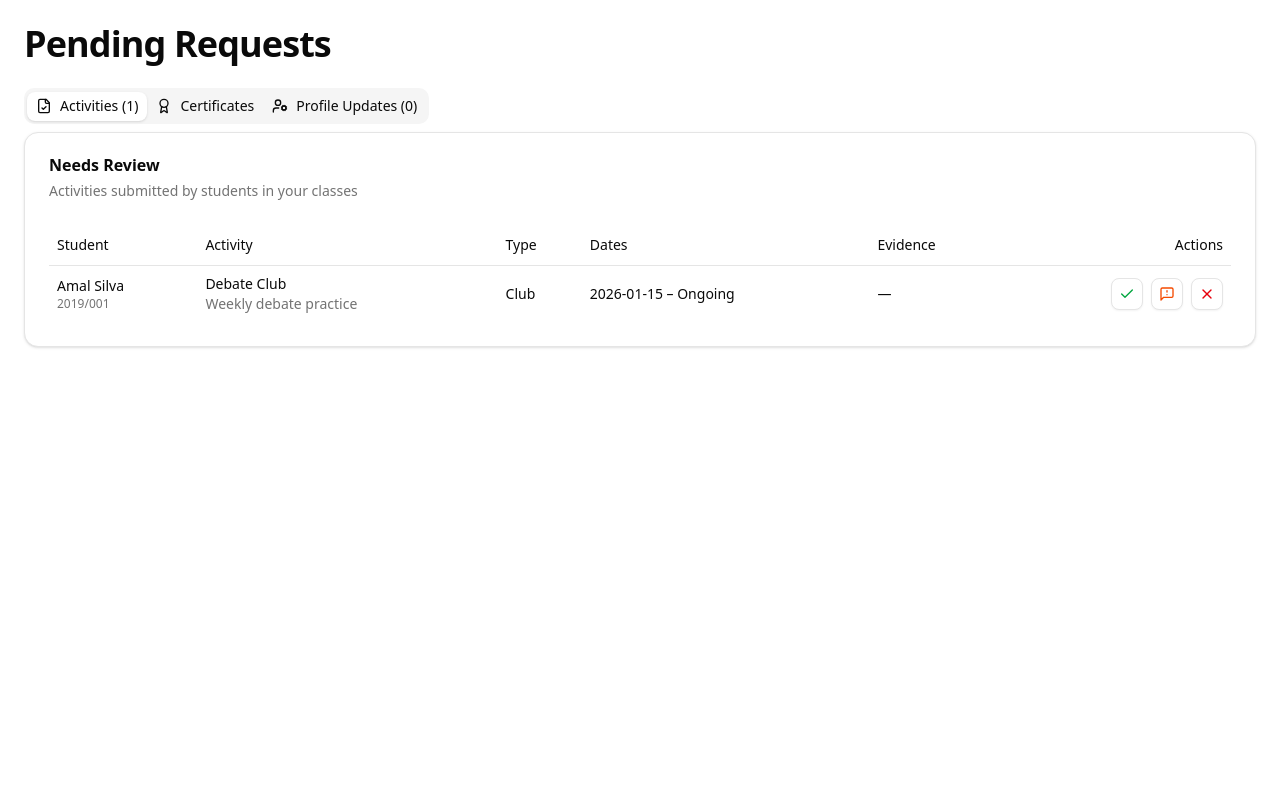
Test: PendingRequestsPage — Activities tab › approves an activity from the Activities tab
Check: the text "Debate Club" is shown, box [205,274,286,292]
Click the button named "Approve". click: (1127, 294)
box: [1111,278,1143,310]
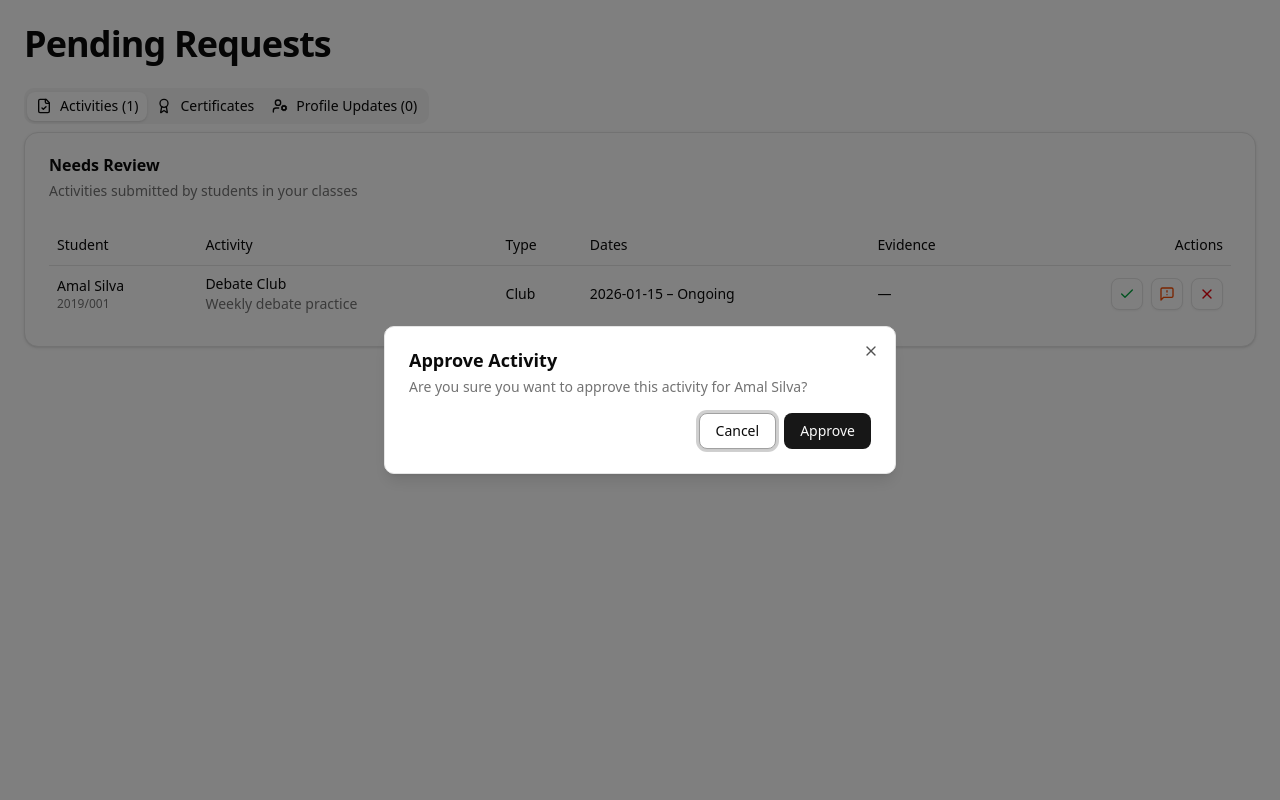
Click the button "Approve". click: (828, 431)
box: [784,413,871,449]
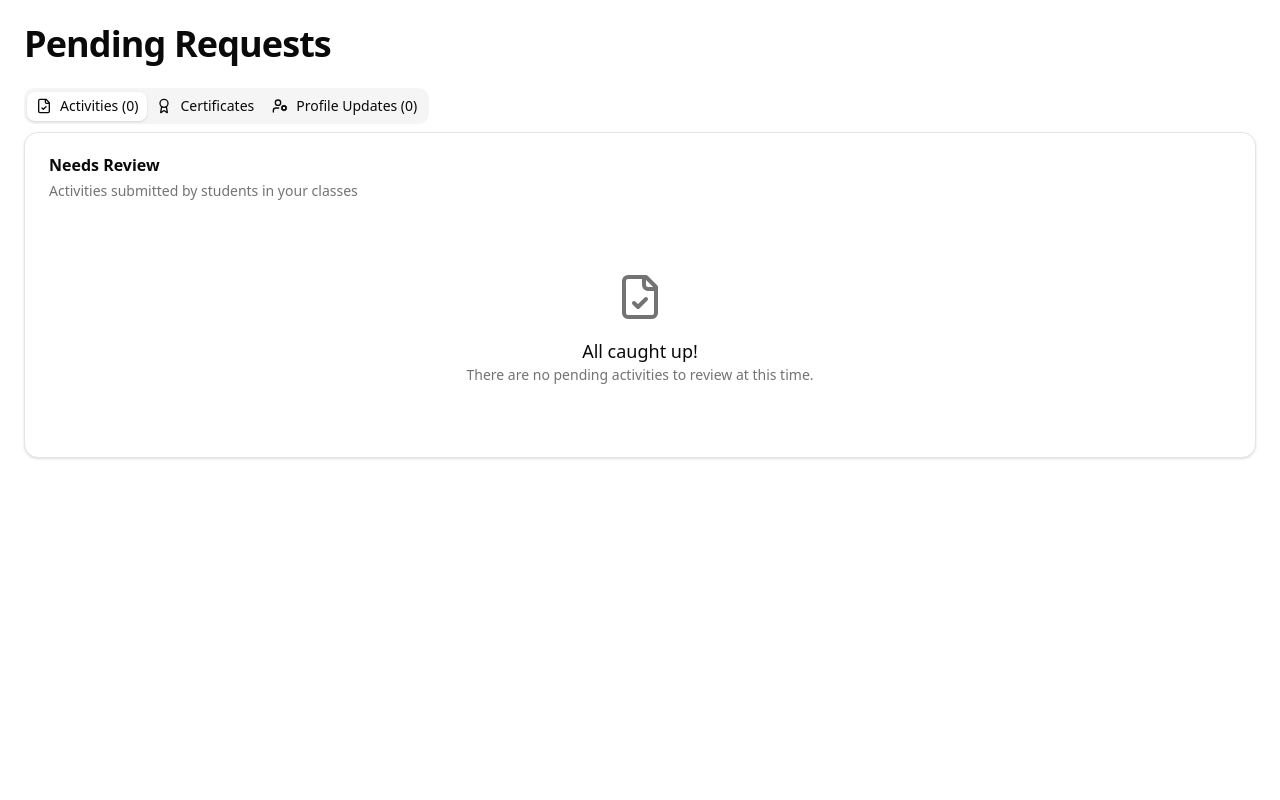
Check: the text "All caught up!" is shown, box [582,337,698,365]
